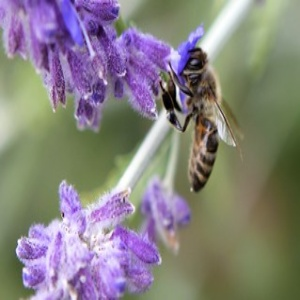bee: (157, 46, 250, 197)
